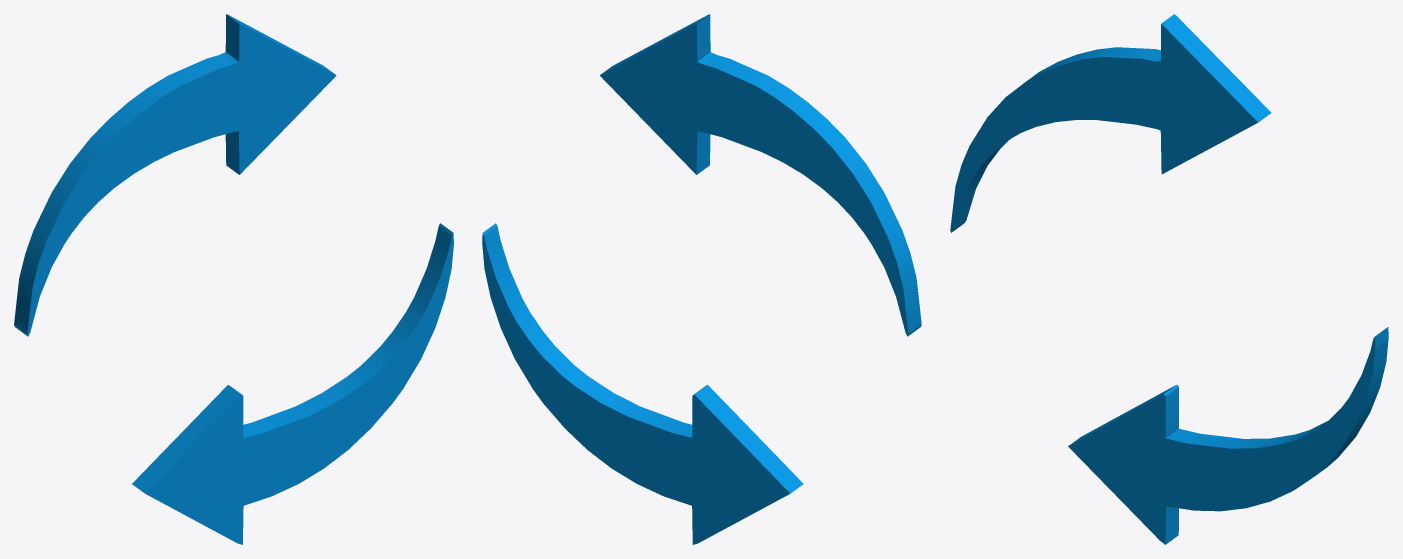
The model's file is Reload and Rotate Icons.fbx.
The picture shows the model from 3 angles, left to right: view 1: azimuth 30°, elevation 25°; view 2: azimuth 150°, elevation 25°; view 3: azimuth 330°, elevation 25°; orthographic projection.
Parts seen in each view (by area): view 1: Curve; view 2: Curve; view 3: Curve.
Boxes of the visible parts, x1,y1,x2,y2 form: Curve: [14, 14, 453, 544]; Curve: [482, 14, 921, 544]; Curve: [950, 14, 1388, 544].
Bounding box in the file's own units: 283 × 331 × 15.8.
